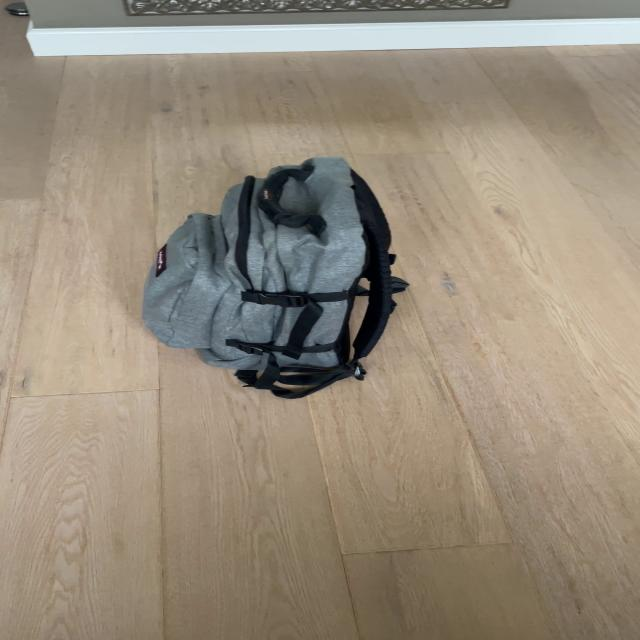backpack: (133, 146, 410, 404)
